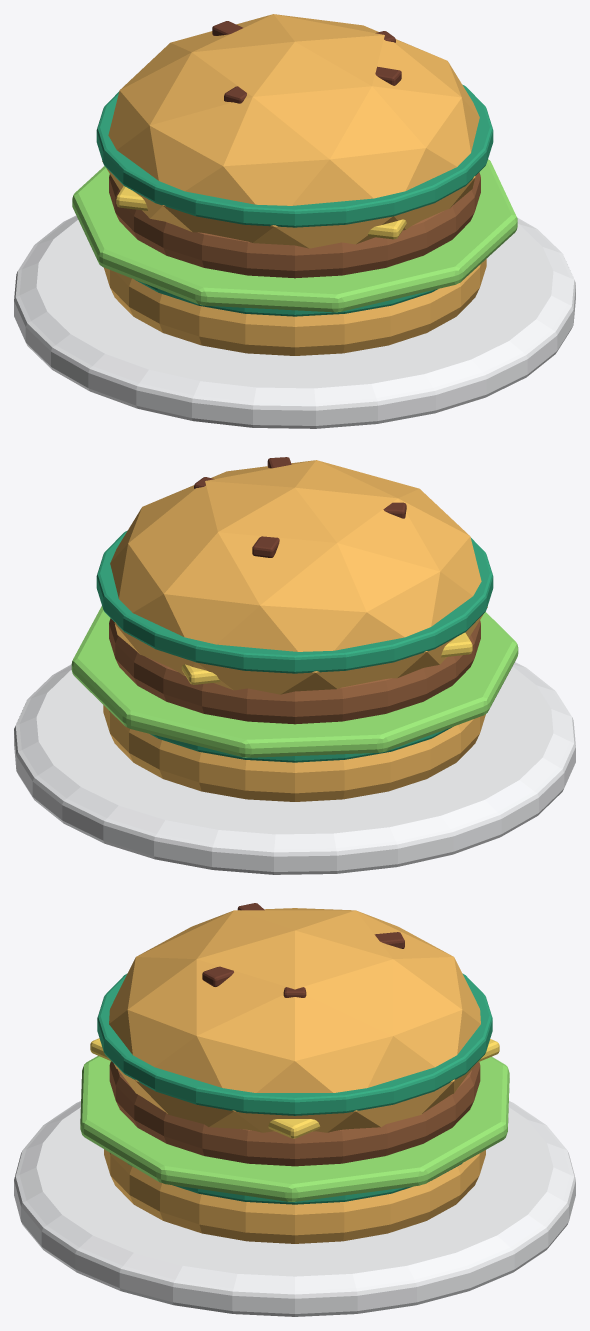
Rendered from x_salada.glb.
3 views of the same model, one above another, from view 1: azimuth 30°, elevation 25°; view 2: azimuth 150°, elevation 25°; view 3: azimuth 270°, elevation 25° (orthographic).
Visible parts, largest first — view 1: Bottom bun, Plate, Lettuce, RAM band, Patty, Chip seed, Cheese; view 2: Bottom bun, Plate, Lettuce, RAM band, Patty, Chip seed, Cheese; view 3: Bottom bun, Plate, Lettuce, Patty, RAM band, Cheese, Chip seed.
Part boxes in pixels (box(x1,y1,x2,y2)): Bottom bun: box(102, 14, 486, 355); Plate: box(14, 215, 575, 428); Lettuce: box(72, 159, 517, 312); RAM band: box(96, 84, 493, 316); Patty: box(109, 172, 480, 278); Chip seed: box(212, 21, 401, 103); Cheese: box(116, 186, 406, 239); Bottom bun: box(103, 460, 487, 801); Plate: box(14, 662, 575, 874); Lettuce: box(71, 606, 518, 757); RAM band: box(96, 530, 493, 762); Patty: box(109, 618, 480, 724); Chip seed: box(194, 457, 406, 557); Cheese: box(181, 632, 472, 684); Bottom bun: box(104, 908, 485, 1243); Plate: box(14, 1101, 575, 1316); Lettuce: box(80, 1056, 509, 1201); Patty: box(109, 1061, 480, 1166); RAM band: box(97, 973, 492, 1204); Cheese: box(90, 1038, 499, 1138); Chip seed: box(202, 903, 404, 997).
Bounding box in the file's own units: 1 × 0.53 × 1.
